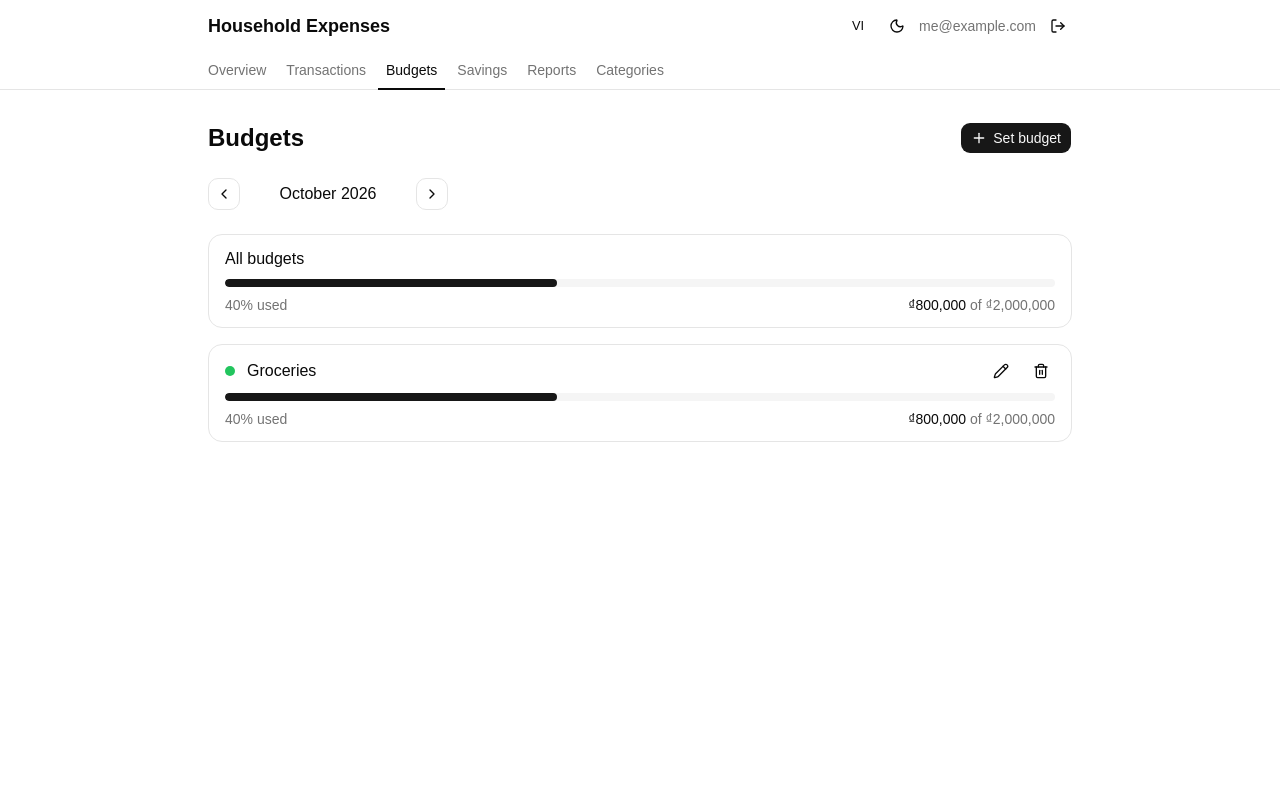
Test: managing budgets › offers only expense categories without a budget, and saves the limit
Click the button "Set budget" at coordinates (1016, 138), box [960,122,1072,154]
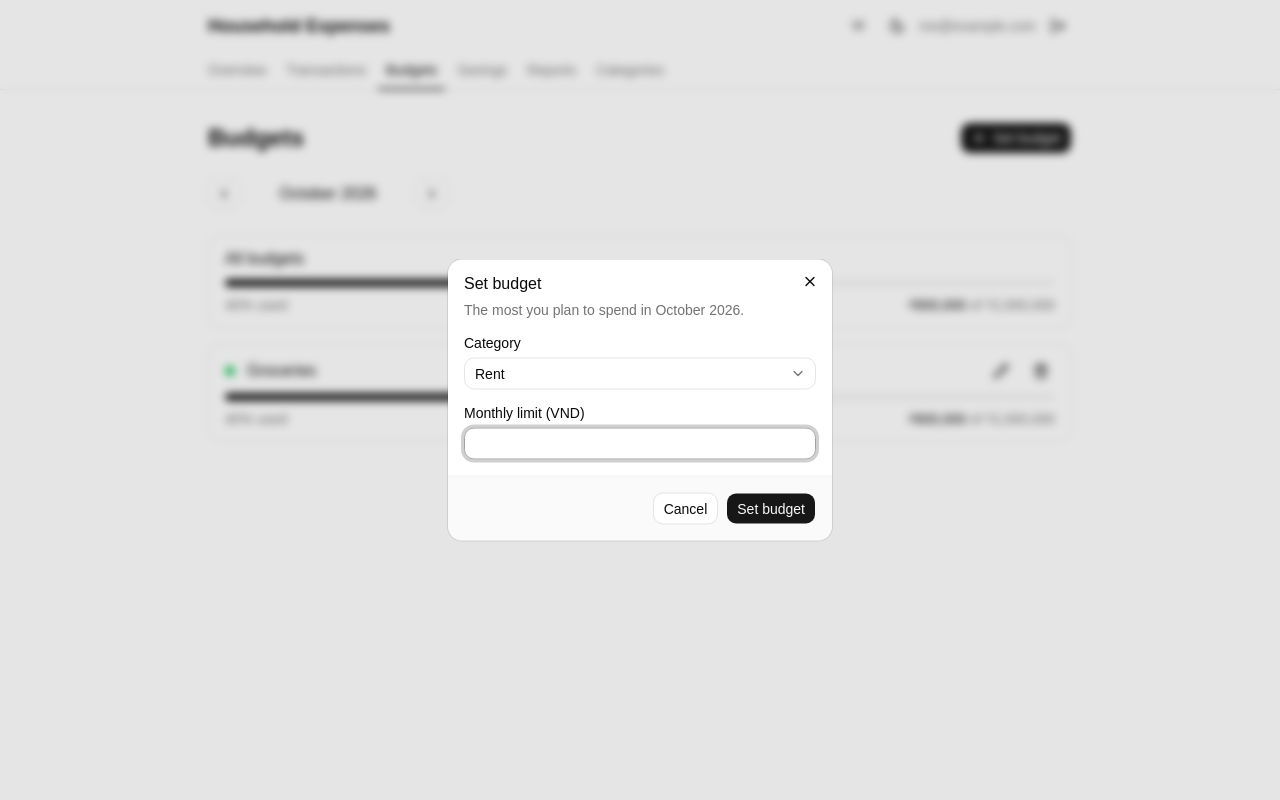
Type "8.000.000" into the field labelled "Monthly limit (VND)" at coordinates (640, 444), box [464,428,816,460]
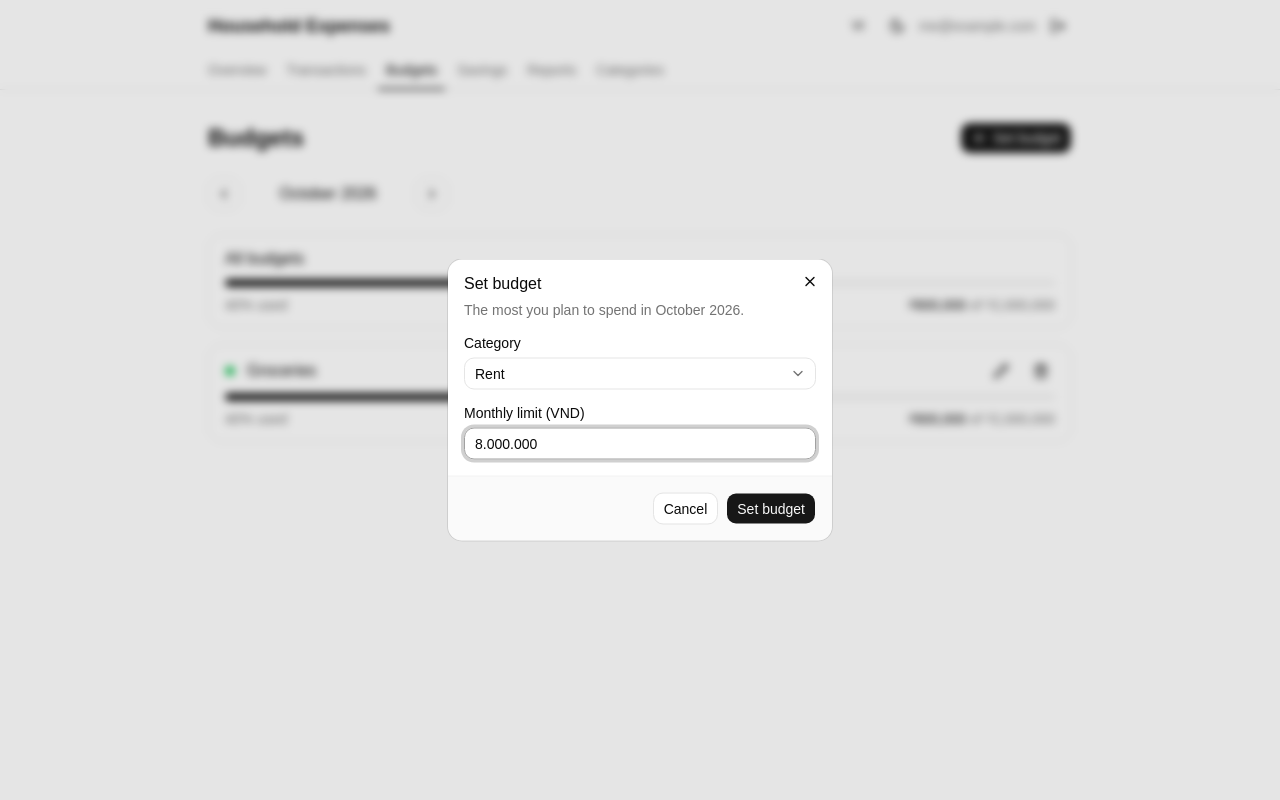
Click the button "Set budget" at coordinates (771, 508), box [726,492,816,524]
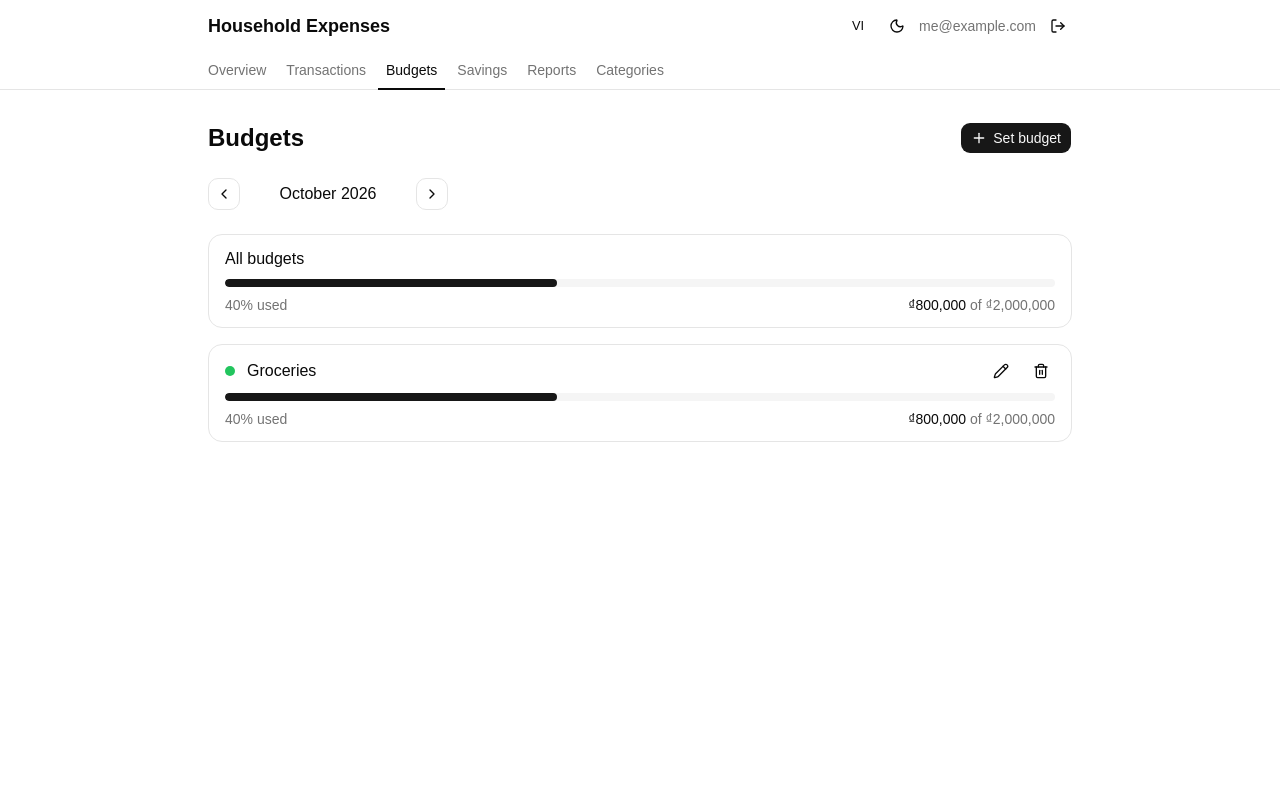
Expected: the dialog is gone
